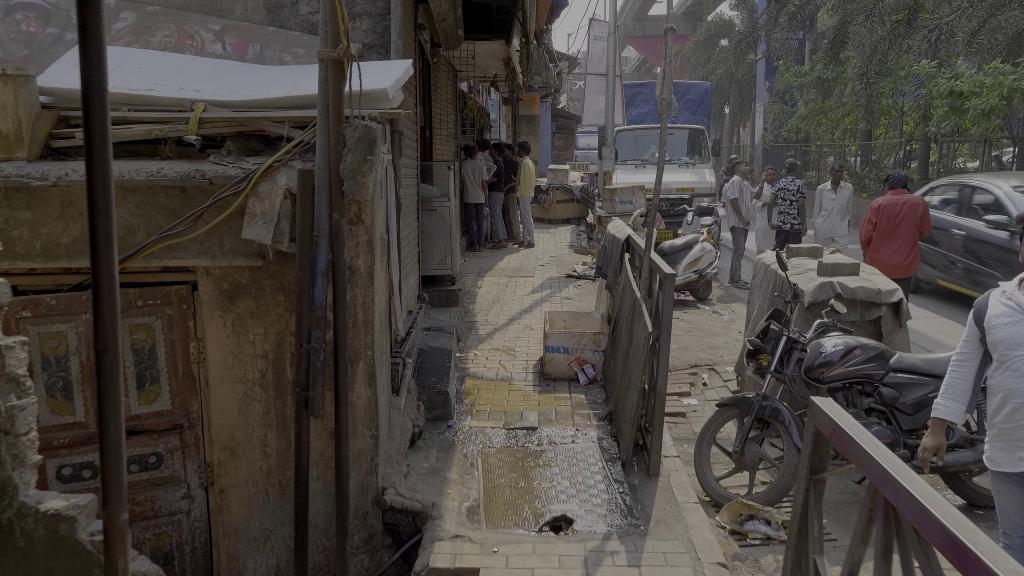garbage: (715, 495, 789, 544), (569, 351, 600, 394)
